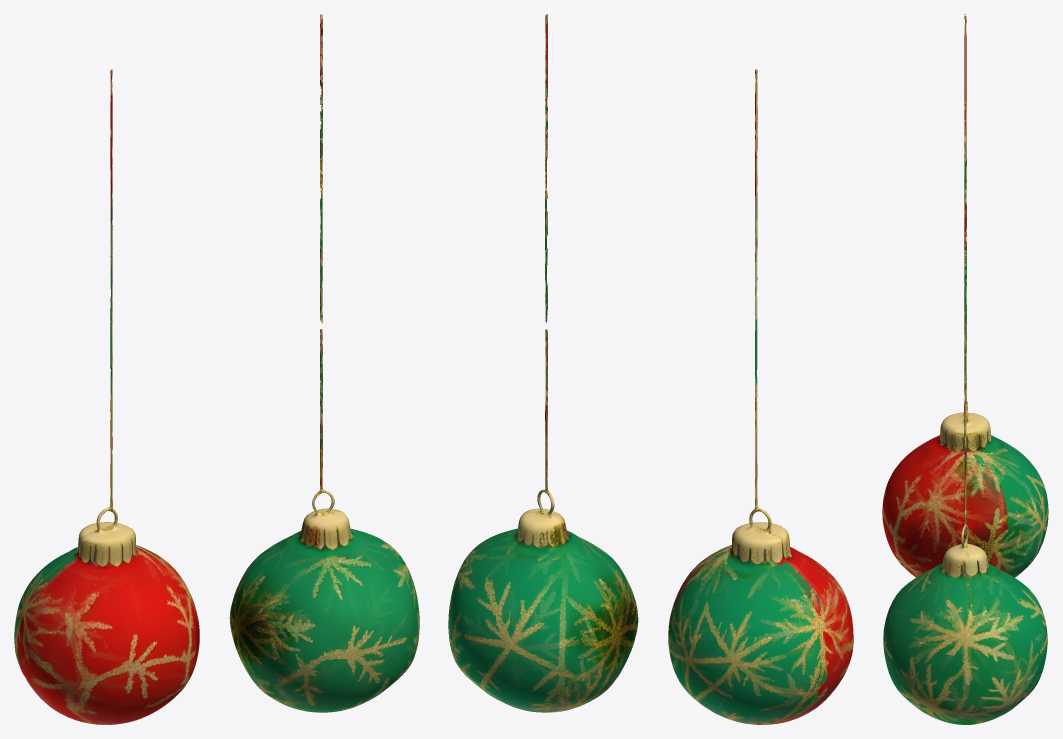
File: Meshy_AI_Christmas_Ornaments_0102105108_texture.fbx
3 renders of one model, left to right at view 1: azimuth 30°, elevation 25°; view 2: azimuth 150°, elevation 25°; view 3: azimuth 270°, elevation 25°, orthographic. The views are drawn at different scales.
Parts seen in each view (by area): view 1: Mesh0; view 2: Mesh0; view 3: Mesh0.
Part boxes in pixels (x1,y1,x2,y2): Mesh0: [14, 14, 419, 724]; Mesh0: [448, 14, 853, 724]; Mesh0: [882, 14, 1048, 724].
Bounding box in the file's own units: 110 × 190 × 46.77.
Materials: 1 (1 with a texture image).
